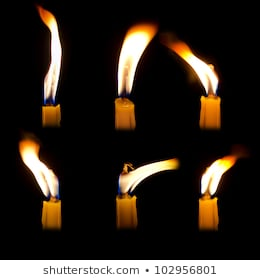Fire: (165, 31, 226, 94), (116, 21, 159, 98), (16, 135, 66, 198), (116, 150, 183, 194), (38, 3, 63, 104), (199, 150, 239, 197)
